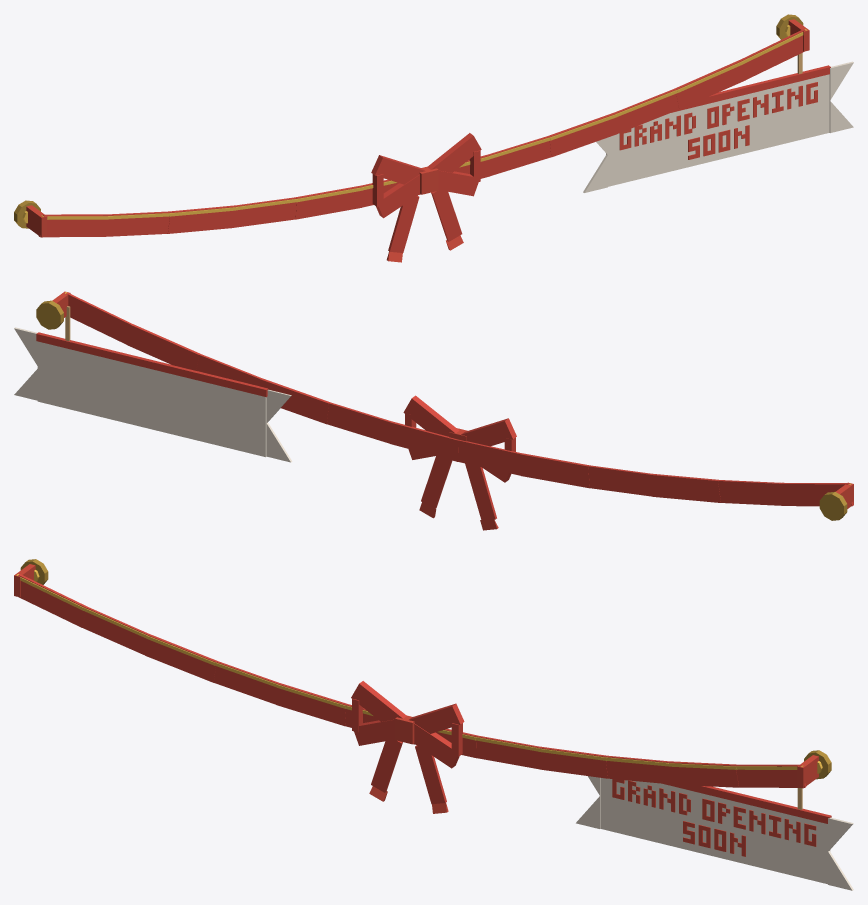
Rendered from CatCafe_Plot_GrandOpeningRibbon.glb.
3 views of the same model, one above another, from view 1: azimuth 30°, elevation 25°; view 2: azimuth 150°, elevation 25°; view 3: azimuth 330°, elevation 25° (orthographic). The views are drawn at different scales.
Parts seen in each view (by area): view 1: CatCafe_Plot_GrandOpeningRibbon_RibbonR, CatCafe_Plot_GrandOpeningRibbon_RibbonL, CatCafe_Plot_GrandOpeningRibbon; view 2: CatCafe_Plot_GrandOpeningRibbon_RibbonR, CatCafe_Plot_GrandOpeningRibbon_RibbonL, CatCafe_Plot_GrandOpeningRibbon; view 3: CatCafe_Plot_GrandOpeningRibbon_RibbonR, CatCafe_Plot_GrandOpeningRibbon_RibbonL, CatCafe_Plot_GrandOpeningRibbon.
Boxes of the visible parts, x1,y1,x2,y2 form: CatCafe_Plot_GrandOpeningRibbon_RibbonR: [427, 19, 853, 250]; CatCafe_Plot_GrandOpeningRibbon_RibbonL: [26, 155, 438, 262]; CatCafe_Plot_GrandOpeningRibbon: [14, 14, 803, 228]; CatCafe_Plot_GrandOpeningRibbon_RibbonR: [14, 291, 459, 518]; CatCafe_Plot_GrandOpeningRibbon_RibbonL: [449, 418, 853, 530]; CatCafe_Plot_GrandOpeningRibbon: [36, 300, 847, 520]; CatCafe_Plot_GrandOpeningRibbon_RibbonR: [409, 703, 853, 890]; CatCafe_Plot_GrandOpeningRibbon_RibbonL: [14, 564, 414, 801]; CatCafe_Plot_GrandOpeningRibbon: [20, 559, 831, 779].
Size of the model in its own units: 17.28 by 2.71 by 0.845.
Materials: 1 (1 with a texture image).
